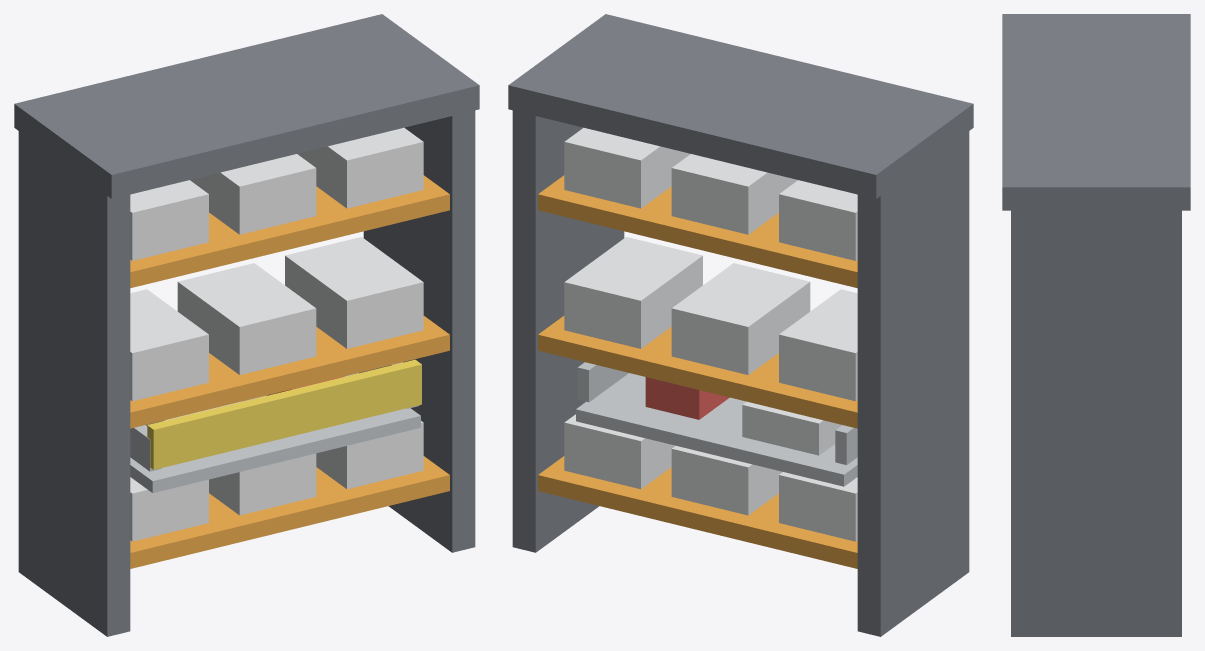
Rendered from battery-charging-hub.glb.
3 renders of one model, left to right at view 1: azimuth 30°, elevation 25°; view 2: azimuth 150°, elevation 25°; view 3: azimuth 270°, elevation 25°, orthographic. The views are drawn at different scales.
Visible parts, largest first — view 1: battery-charging-hub, drawer-charge/yellow, drawer-charge/steel; view 2: battery-charging-hub, drawer-charge/steel, drawer-charge/shell, drawer-charge/red; view 3: battery-charging-hub.
Part boxes in pixels (box(x1,y1,x2,y2)): battery-charging-hub: box(14, 14, 479, 636); drawer-charge/yellow: box(147, 359, 421, 469); drawer-charge/steel: box(130, 362, 420, 492); battery-charging-hub: box(508, 14, 973, 636); drawer-charge/steel: box(576, 362, 857, 486); drawer-charge/shell: box(742, 401, 841, 455); drawer-charge/red: box(645, 377, 729, 419); battery-charging-hub: box(1002, 14, 1190, 636).
Size of the model in its own units: 0.9601 by 1.16 by 0.44.
